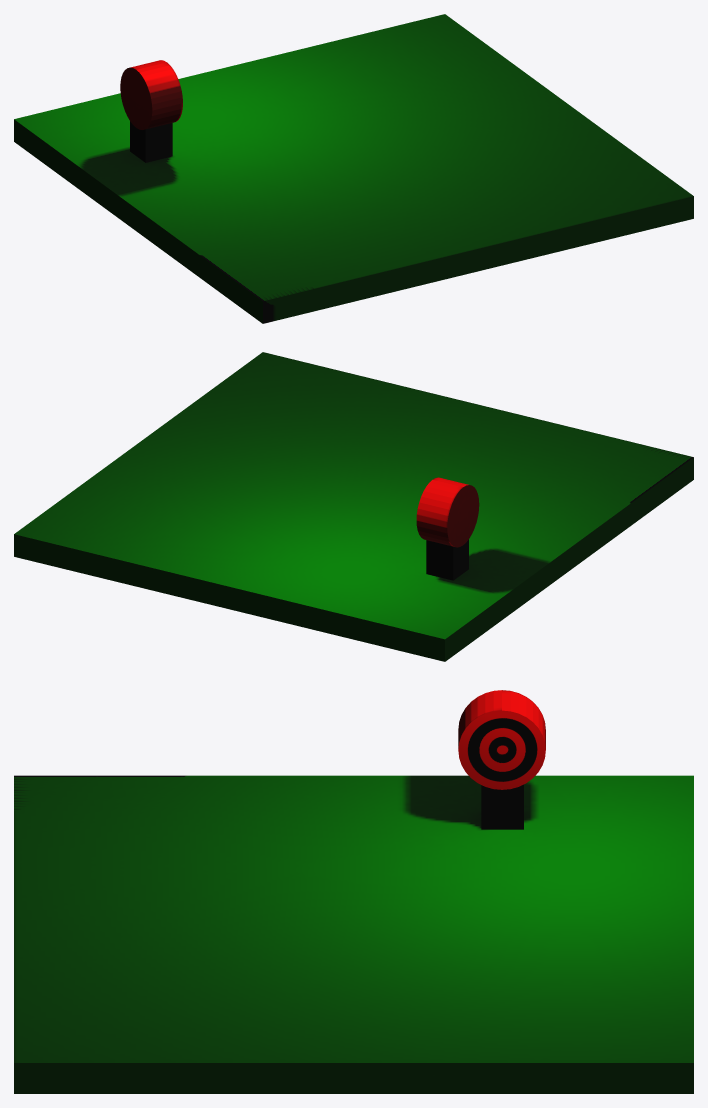
File: map.obj
The picture shows the model from 3 angles, top to bottom: view 1: azimuth 30°, elevation 25°; view 2: azimuth 150°, elevation 25°; view 3: azimuth 270°, elevation 25°; orthographic projection. The views are drawn at different scales.
Parts seen in each view (by area): view 1: Cube; view 2: Cube; view 3: Cube.
Part boxes in pixels (x1,y1,x2,y2): Cube: (14,14,693,323); Cube: (14,352,693,661); Cube: (14,690,693,1093).
Size of the model in its own units: 10 by 2.45 by 10.
Materials: 1 (1 with a texture image).
